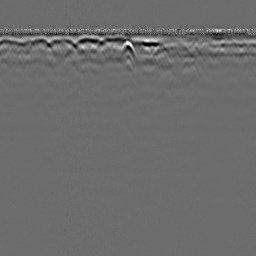cavity: (118, 39, 138, 60)
